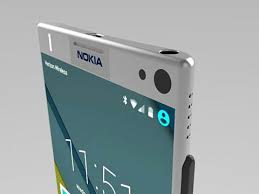nokia: (36, 20, 194, 192)
